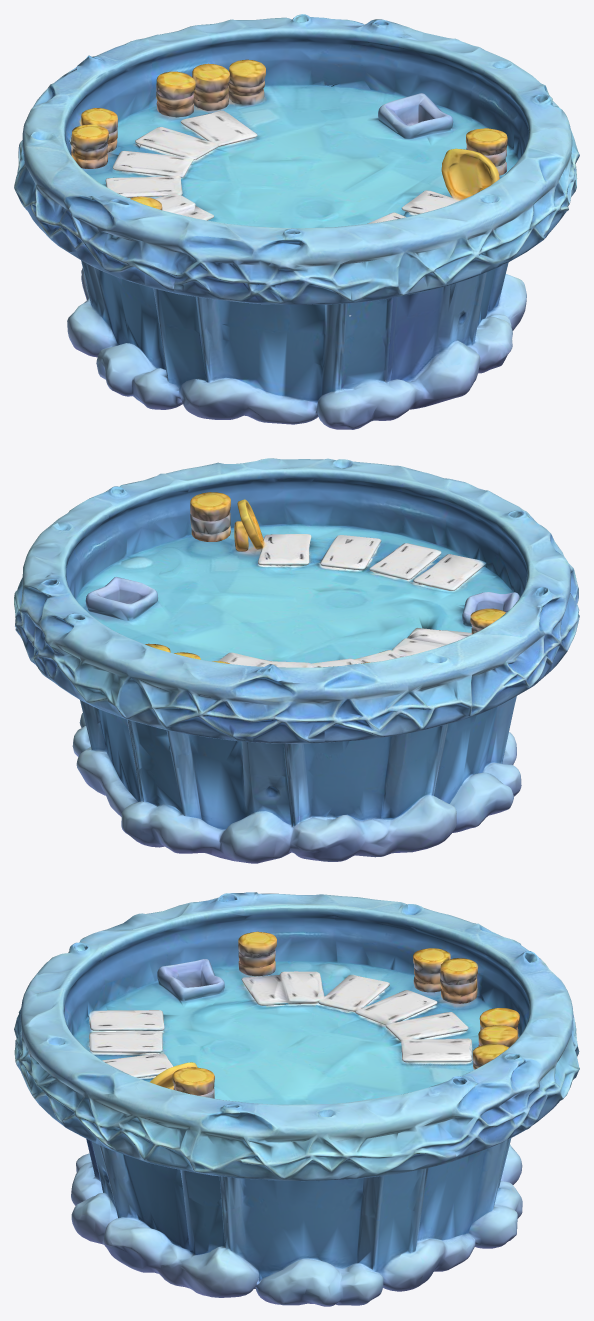
Rendered from pv-blackjack-empty-diet.glb.
3 views of the same model, one above another, from view 1: azimuth 30°, elevation 25°; view 2: azimuth 150°, elevation 25°; view 3: azimuth 270°, elevation 25° (orthographic).
Parts seen in each view (by area): view 1: tripo_node_f4873593-583c-4166-9b8f-873786e14861; view 2: tripo_node_f4873593-583c-4166-9b8f-873786e14861; view 3: tripo_node_f4873593-583c-4166-9b8f-873786e14861.
Part boxes in pixels (left/top/right/bottom): tripo_node_f4873593-583c-4166-9b8f-873786e14861: left=14, top=14, right=579, bottom=429; tripo_node_f4873593-583c-4166-9b8f-873786e14861: left=14, top=458, right=579, bottom=863; tripo_node_f4873593-583c-4166-9b8f-873786e14861: left=14, top=892, right=579, bottom=1306.
Size of the model in its own units: 0.9823 by 0.4303 by 0.9794.
1 material, 1 textured.
